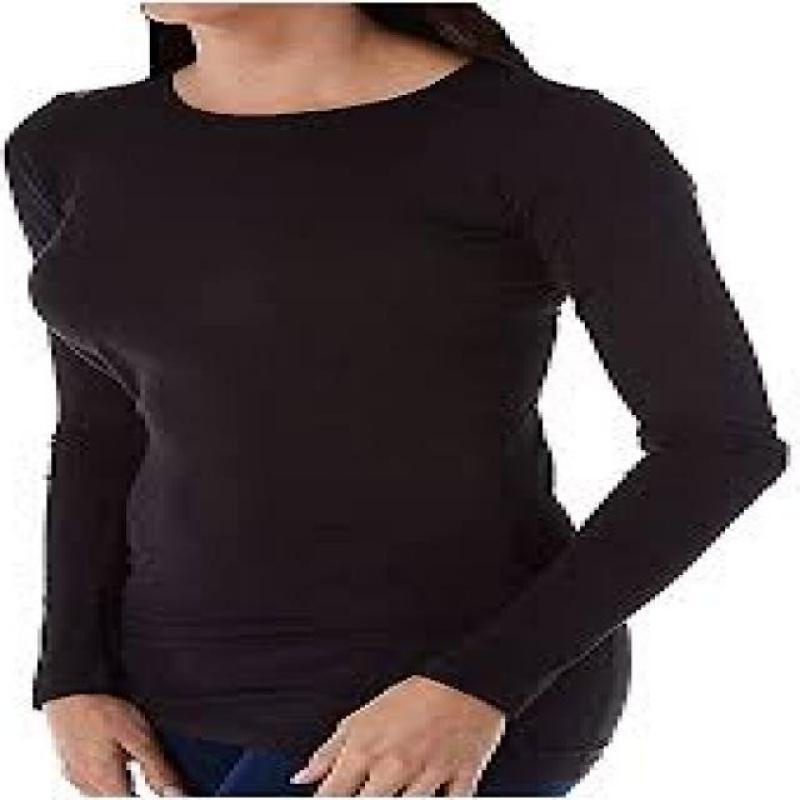long sleeve shirt: (1, 65, 788, 768)
trousers: (134, 732, 593, 800)
